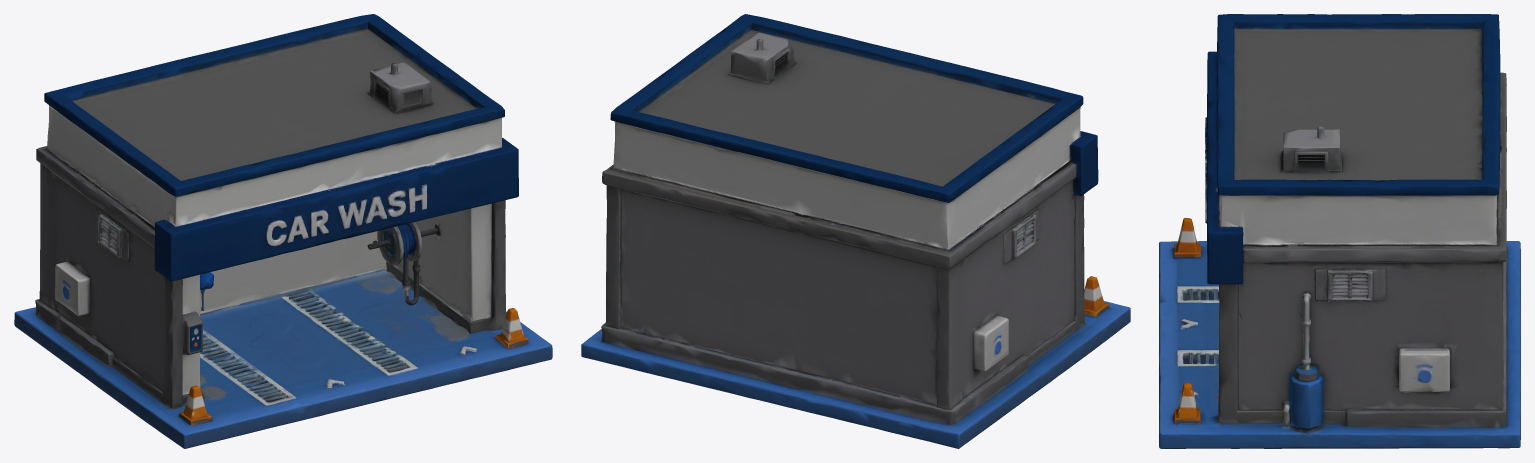
The model's file is car_wash_1k_real.glb.
3 renders of one model, left to right at view 1: azimuth 30°, elevation 25°; view 2: azimuth 150°, elevation 25°; view 3: azimuth 270°, elevation 25°, orthographic. The views are drawn at different scales.
Parts seen in each view (by area): view 1: tripo_node_17f0a175-56bf-40f2-bcf9-dfccb79b8ae0; view 2: tripo_node_17f0a175-56bf-40f2-bcf9-dfccb79b8ae0; view 3: tripo_node_17f0a175-56bf-40f2-bcf9-dfccb79b8ae0.
Part boxes in pixels (left/top/right/bottom): tripo_node_17f0a175-56bf-40f2-bcf9-dfccb79b8ae0: left=14, top=14, right=552, bottom=448; tripo_node_17f0a175-56bf-40f2-bcf9-dfccb79b8ae0: left=581, top=14, right=1130, bottom=448; tripo_node_17f0a175-56bf-40f2-bcf9-dfccb79b8ae0: left=1159, top=14, right=1520, bottom=448.
Size of the model in its own units: 1 by 0.6685 by 0.7842.
Materials: 1 (1 with a texture image).
